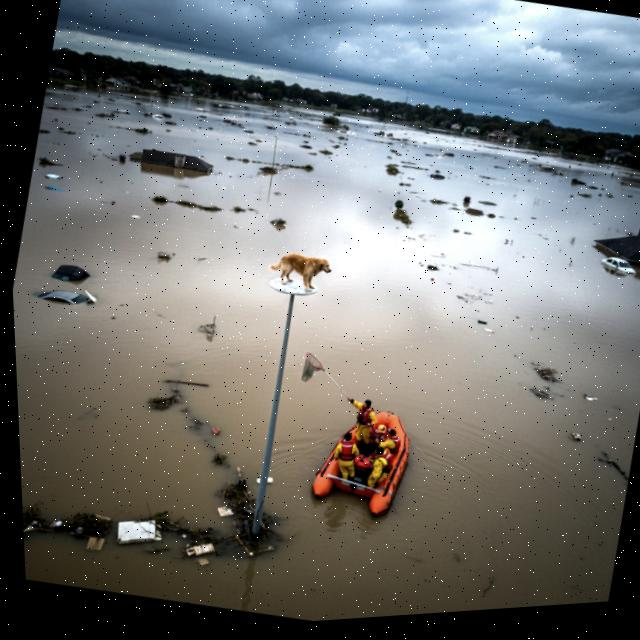dog: (259, 236, 347, 304)
rescuer: (333, 384, 392, 458), (324, 419, 373, 486), (362, 437, 399, 495), (374, 424, 405, 461)
